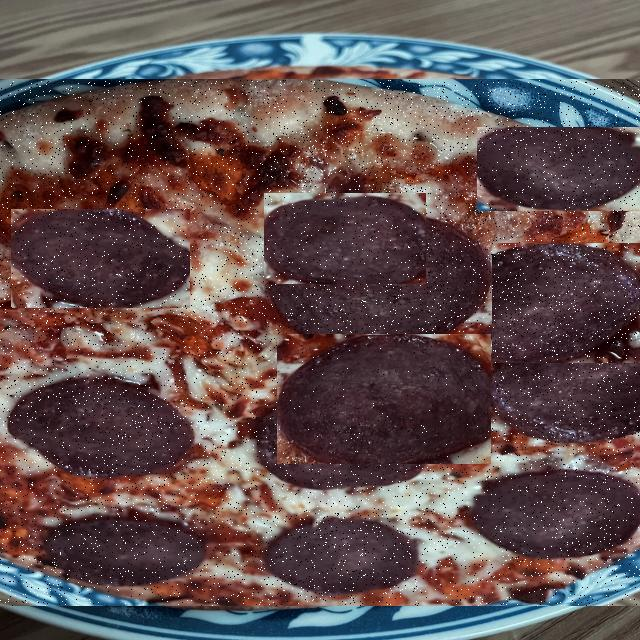Pepperoni: (277, 334, 491, 464), (492, 243, 640, 363), (11, 209, 190, 308), (264, 193, 426, 284), (477, 127, 640, 211), (277, 90, 416, 167), (50, 108, 200, 170)
Pizza: (0, 80, 640, 606)
